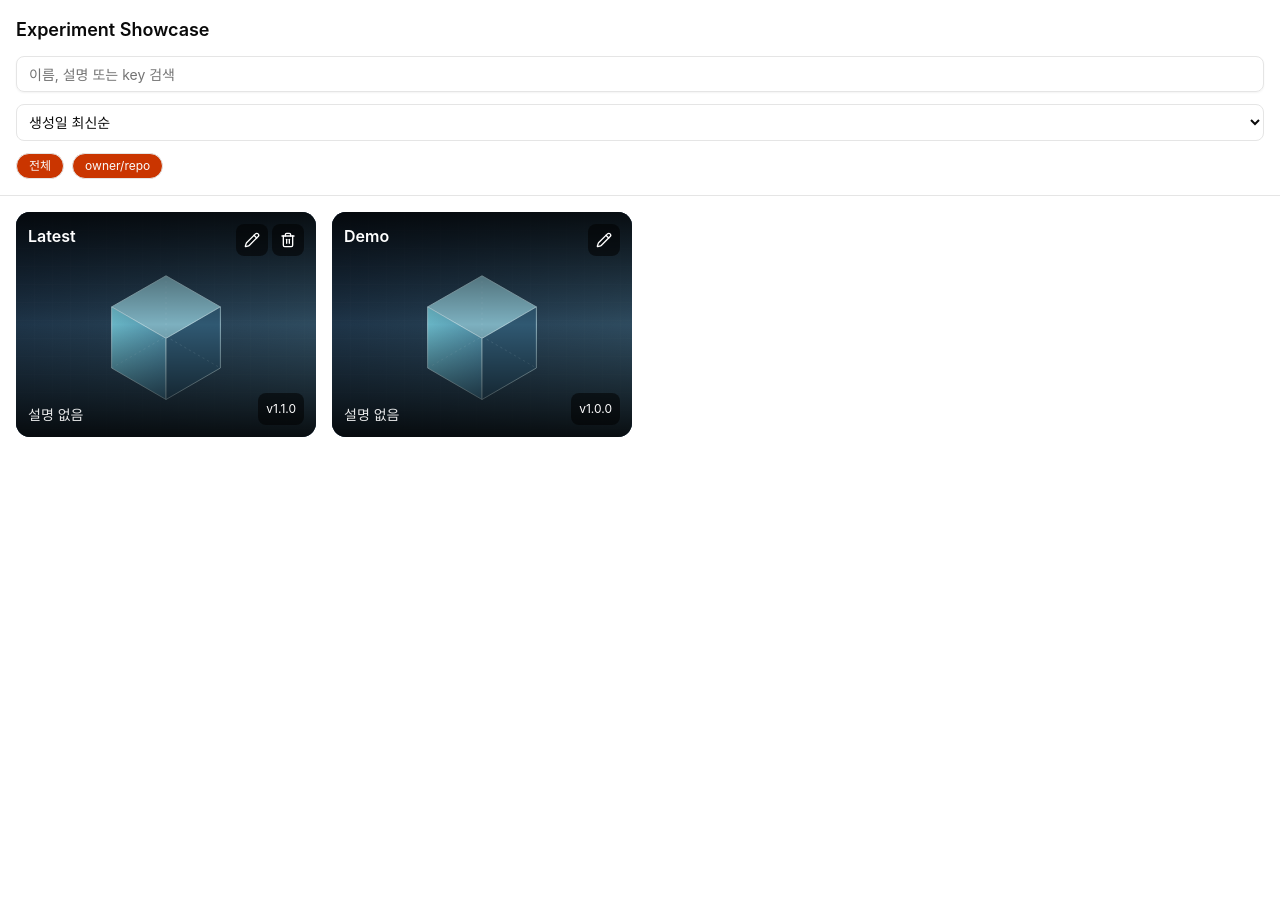
Test case: selects previous versions in a modal without replacing the representative card
Step 1. Click the button named "Latest 버전 목록" → (281, 409), box [258,393,304,425]
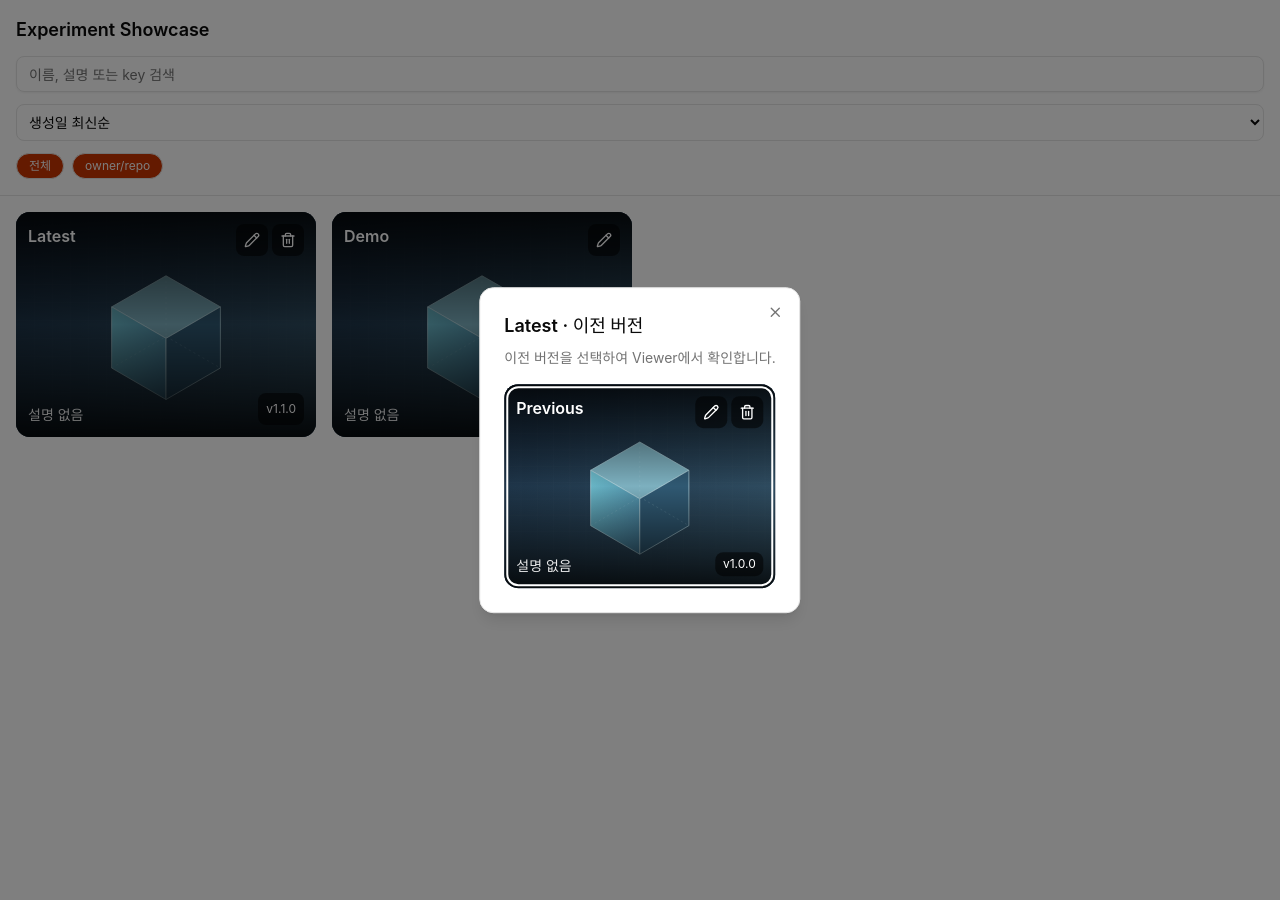
Step 2. Click the button named "Previous v1.0.0 선택" → (640, 486), box [504,384,776,588]
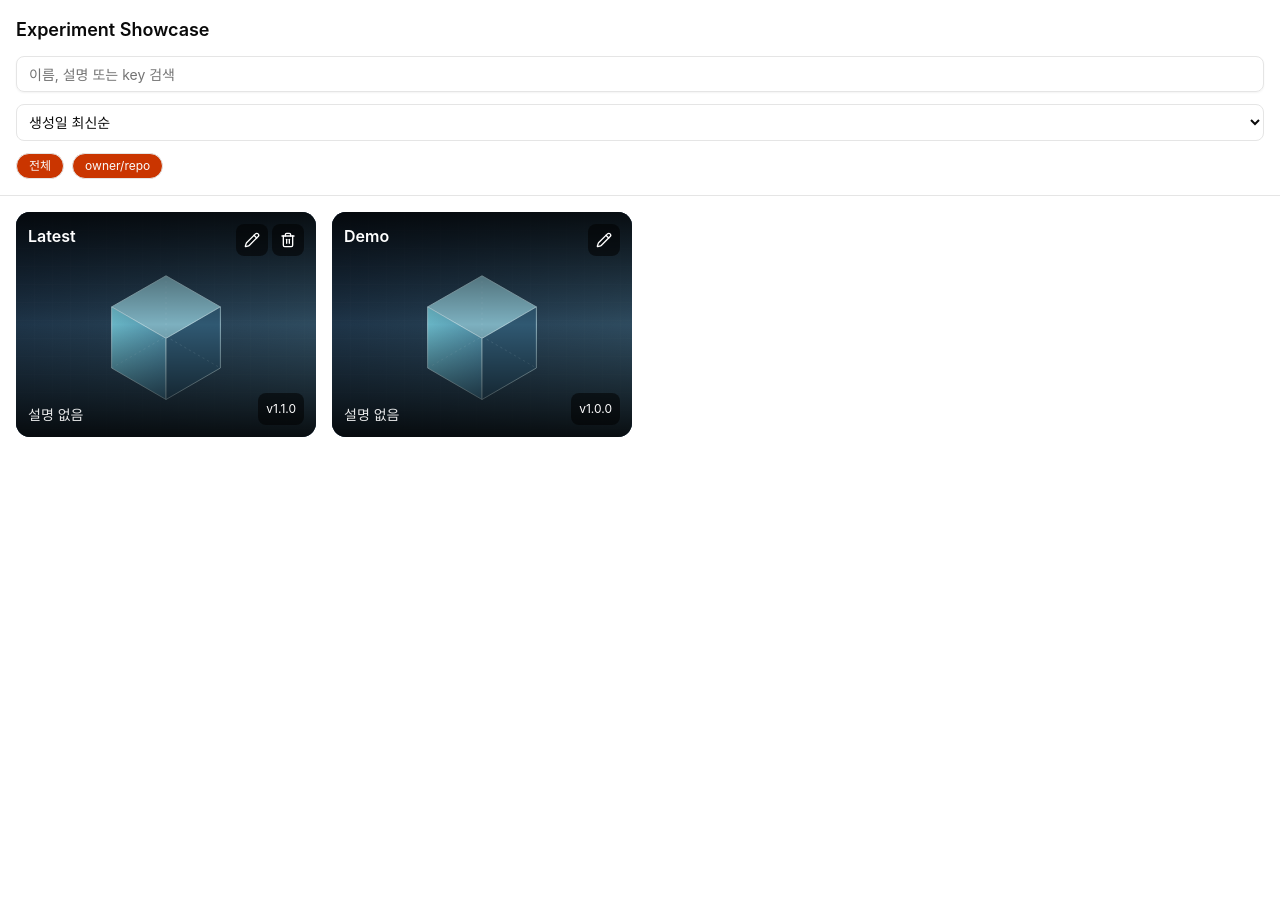
Expected: the button named "Latest v1.1.0 선택" is shown, [16,212,316,437]
Result: the dialog is gone
